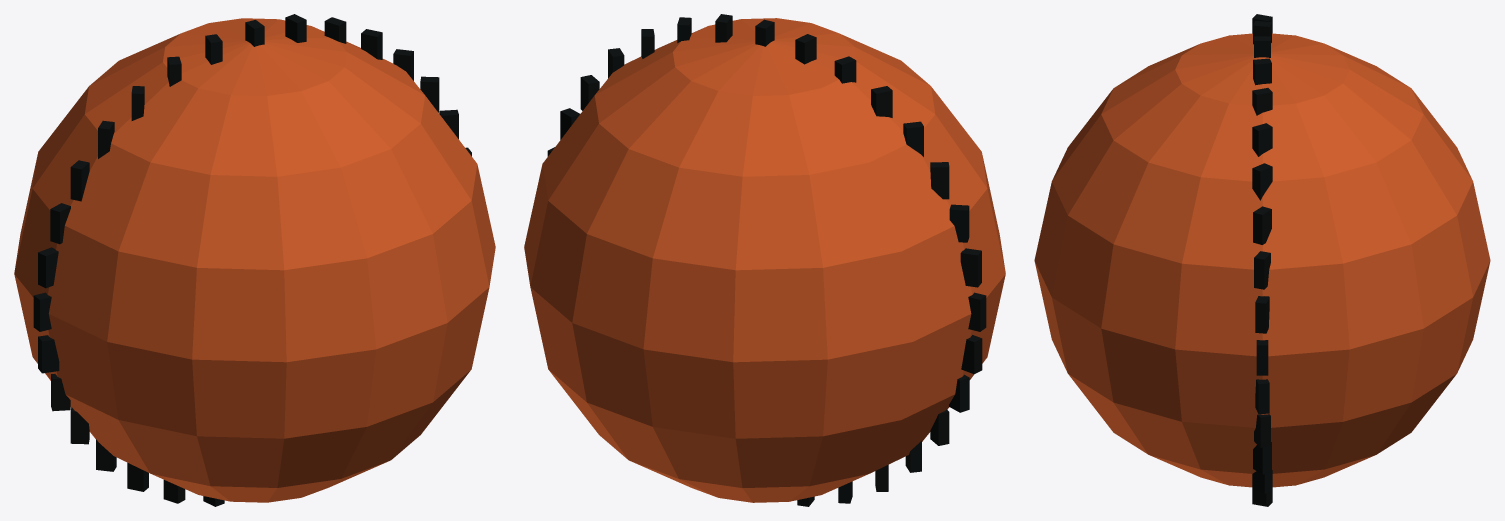
File: basketball.glb
3 renders of one model, left to right at view 1: azimuth 30°, elevation 25°; view 2: azimuth 150°, elevation 25°; view 3: azimuth 270°, elevation 25°, orthographic. The views are drawn at different scales.
Parts seen in each view (by area): view 1: V2_basketball_orange.005, V2_basketball_dark.005; view 2: V2_basketball_orange.005, V2_basketball_dark.005; view 3: V2_basketball_orange.005, V2_basketball_dark.005.
Part boxes in pixels (bbox=[...]): V2_basketball_orange.005: bbox=[14, 18, 495, 502]; V2_basketball_dark.005: bbox=[33, 14, 471, 506]; V2_basketball_orange.005: bbox=[524, 18, 1005, 502]; V2_basketball_dark.005: bbox=[547, 14, 986, 506]; V2_basketball_orange.005: bbox=[1034, 33, 1490, 487]; V2_basketball_dark.005: bbox=[1252, 14, 1272, 506].
Size of the model in its own units: 0.498 by 0.515 by 0.48.
